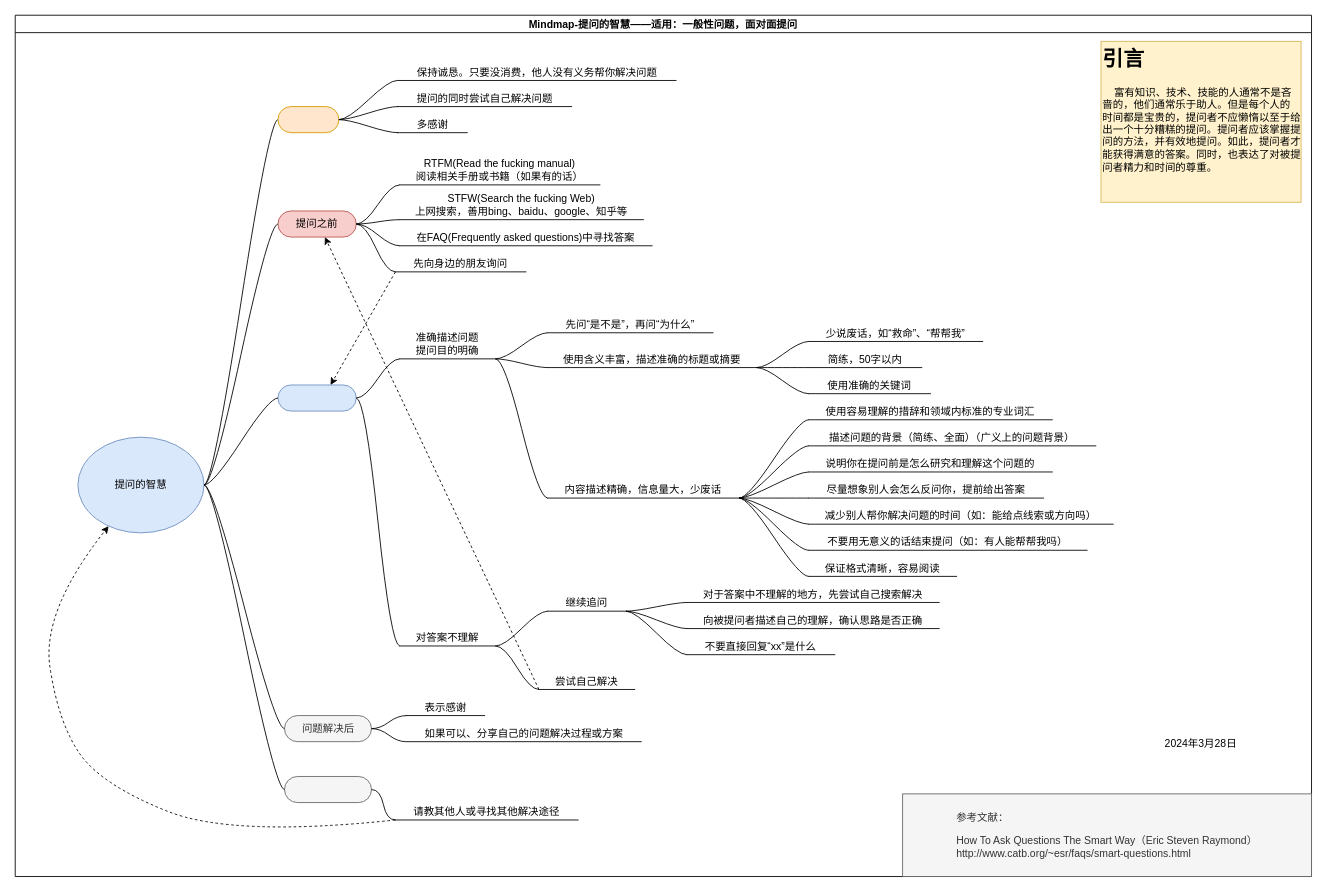
The diagram is 1327 pixels wide and 892 high, and some of its shapes have lost their labels. The centre of each missing label's shape, as x and y in pixels:
"态度" belongs at pixel 308 119.
"怎么提问" belongs at pixel 316 397.
"问题未解决" belongs at pixel 327 789.
